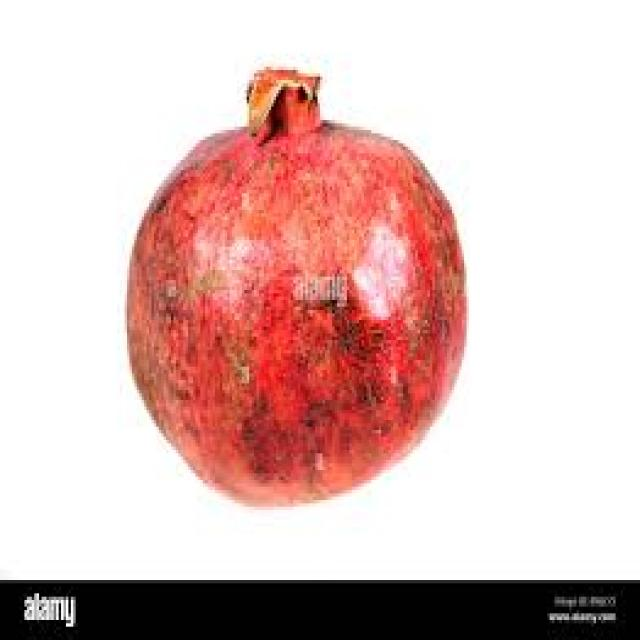overripe: (121, 67, 472, 511)
